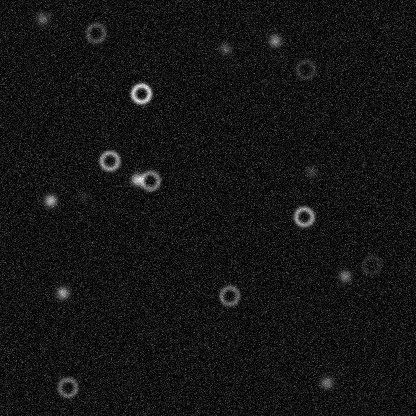Ring: (137, 168, 161, 192), (359, 252, 383, 276), (291, 204, 315, 228), (55, 375, 79, 399), (97, 148, 121, 172), (83, 20, 107, 44), (129, 81, 153, 105), (217, 283, 241, 307), (293, 57, 317, 81)
Spot: (34, 10, 50, 26), (54, 284, 70, 300), (266, 32, 282, 48), (42, 192, 58, 208), (336, 268, 352, 284), (129, 171, 145, 187), (75, 188, 91, 204), (303, 163, 319, 179), (318, 374, 334, 390), (217, 40, 233, 56)
